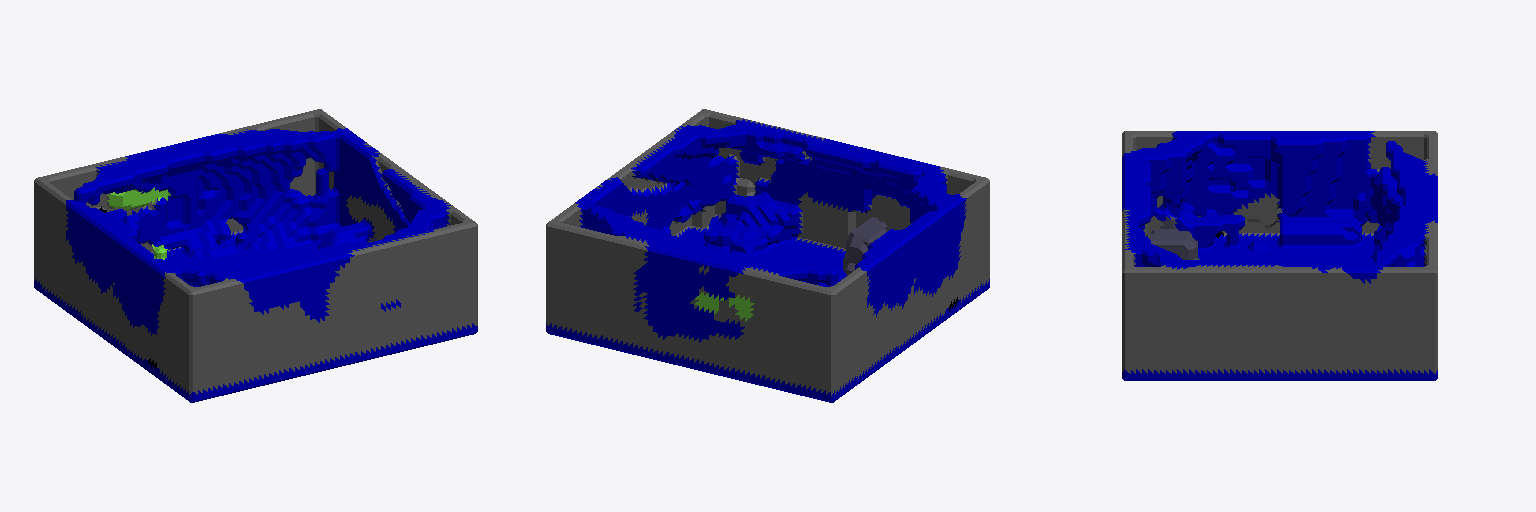
3 views of the same model, side by side, from view 1: azimuth 30°, elevation 25°; view 2: azimuth 150°, elevation 25°; view 3: azimuth 270°, elevation 25° (orthographic).
Parts seen in each view (by area): view 1: Input_prediction_mesh; view 2: Input_prediction_mesh; view 3: Input_prediction_mesh.
Boxes of the visible parts, box(x1,y1,x2,y2) form: Input_prediction_mesh: box(34, 109, 477, 402); Input_prediction_mesh: box(546, 109, 989, 402); Input_prediction_mesh: box(1122, 131, 1437, 380).
Size of the model in its own units: 4.56 by 1.68 by 4.32.